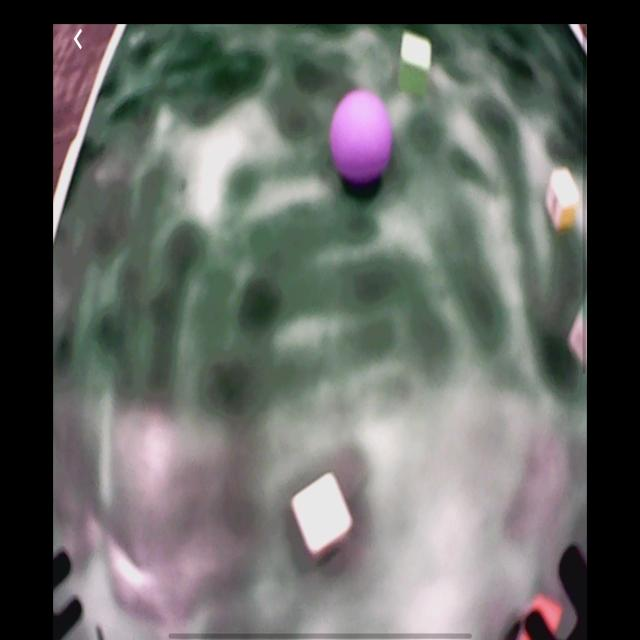ball: (331, 91, 393, 187)
